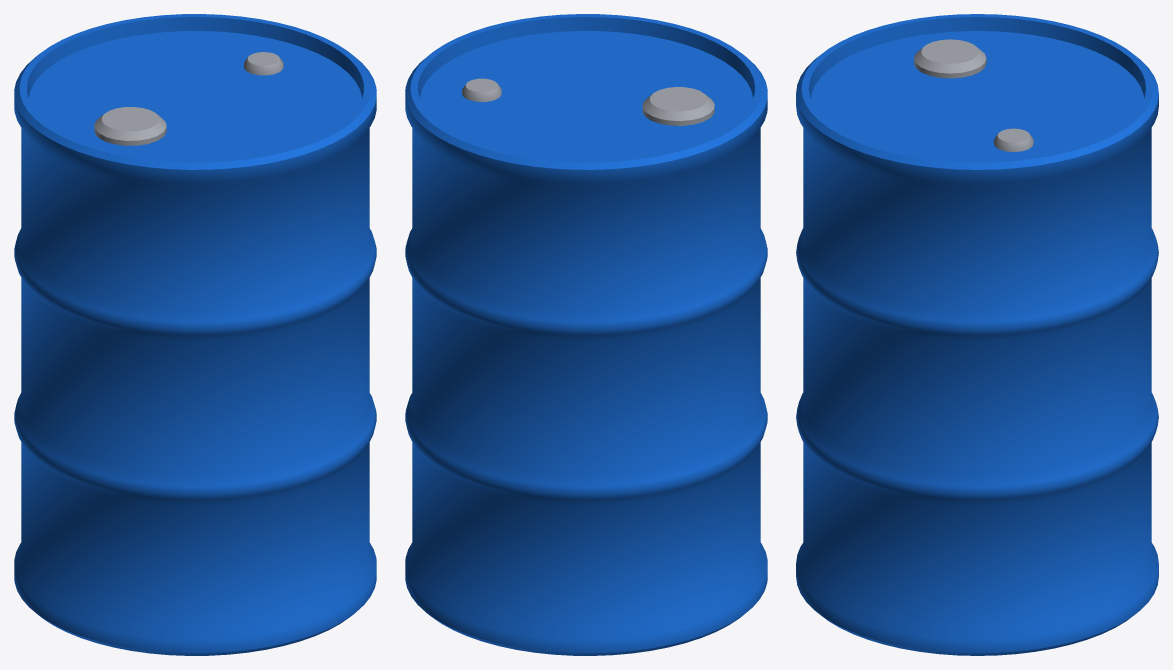
The model's file is G_OilDrum.fbx.
3 views of the same model, side by side, from view 1: azimuth 30°, elevation 25°; view 2: azimuth 150°, elevation 25°; view 3: azimuth 270°, elevation 25° (orthographic).
Visible parts, largest first — view 1: Blue.003, Metal.006; view 2: Blue.003, Metal.006; view 3: Blue.003, Metal.006.
Boxes of the visible parts, bbox=[...] form: Blue.003: bbox=[14, 14, 376, 655]; Metal.006: bbox=[94, 52, 283, 145]; Blue.003: bbox=[405, 14, 767, 655]; Metal.006: bbox=[462, 78, 714, 125]; Blue.003: bbox=[796, 14, 1158, 655]; Metal.006: bbox=[914, 39, 1033, 151].
Size of the model in its own units: 2 by 3 by 2.
